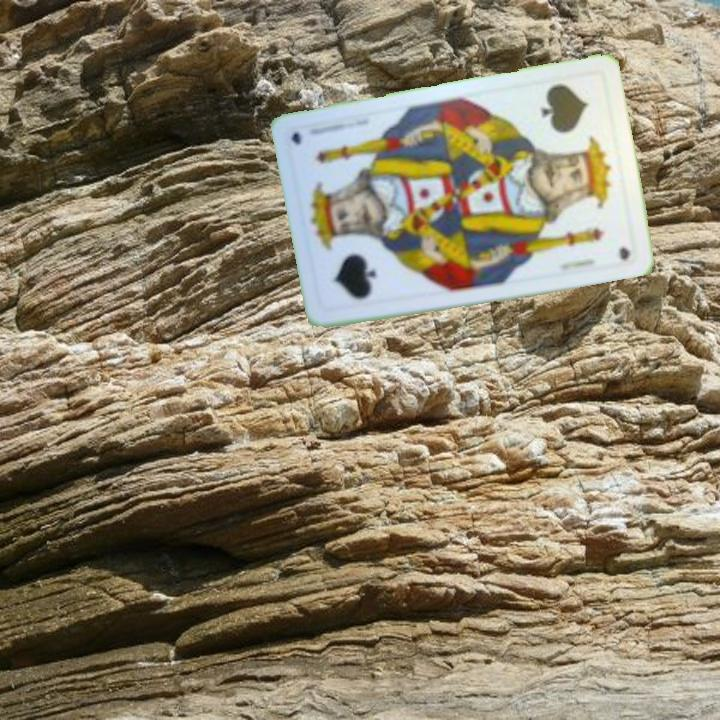s_k.png: (304, 205, 406, 318), (519, 69, 621, 182)
